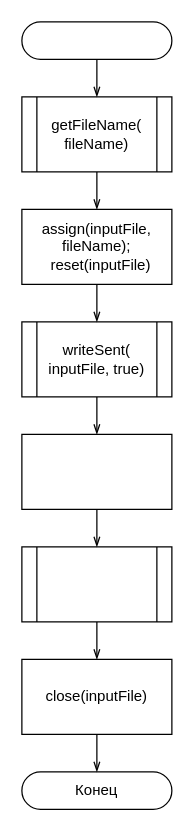
The diagram is 194 pixels wide and 831 high, and some of its shapes have lost their labels. Here are the shapes that lost their labels. From the top down, the centre of each, then its label:
pixel 96 40: Начало
pixel 96 471: close(inputFile); reset(inputFile)
pixel 96 584: writeSent( inputFile, false)
